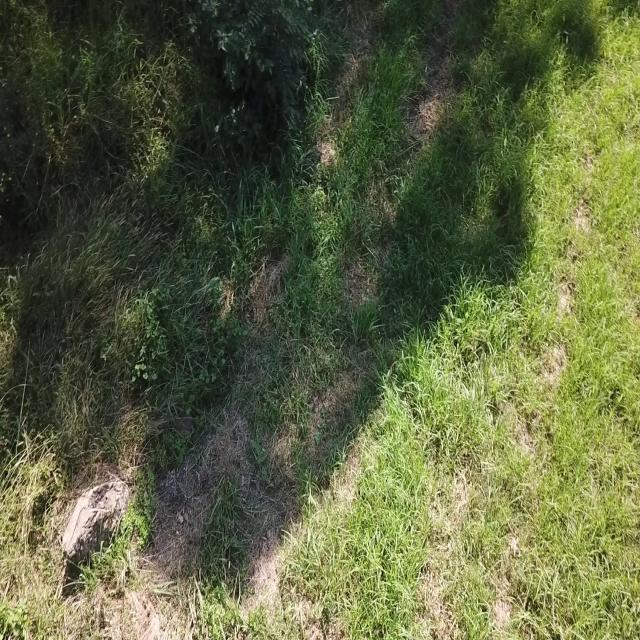Mysore-Thorn-Weed: (197, 0, 329, 121)
